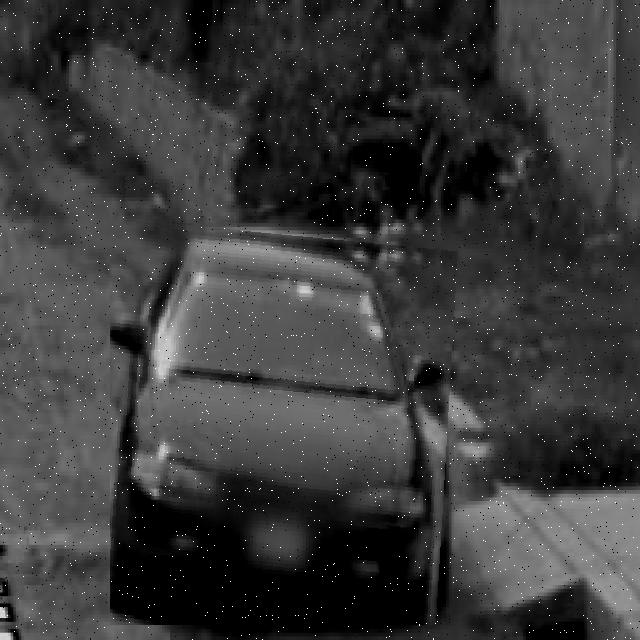car: (111, 219, 459, 626)
